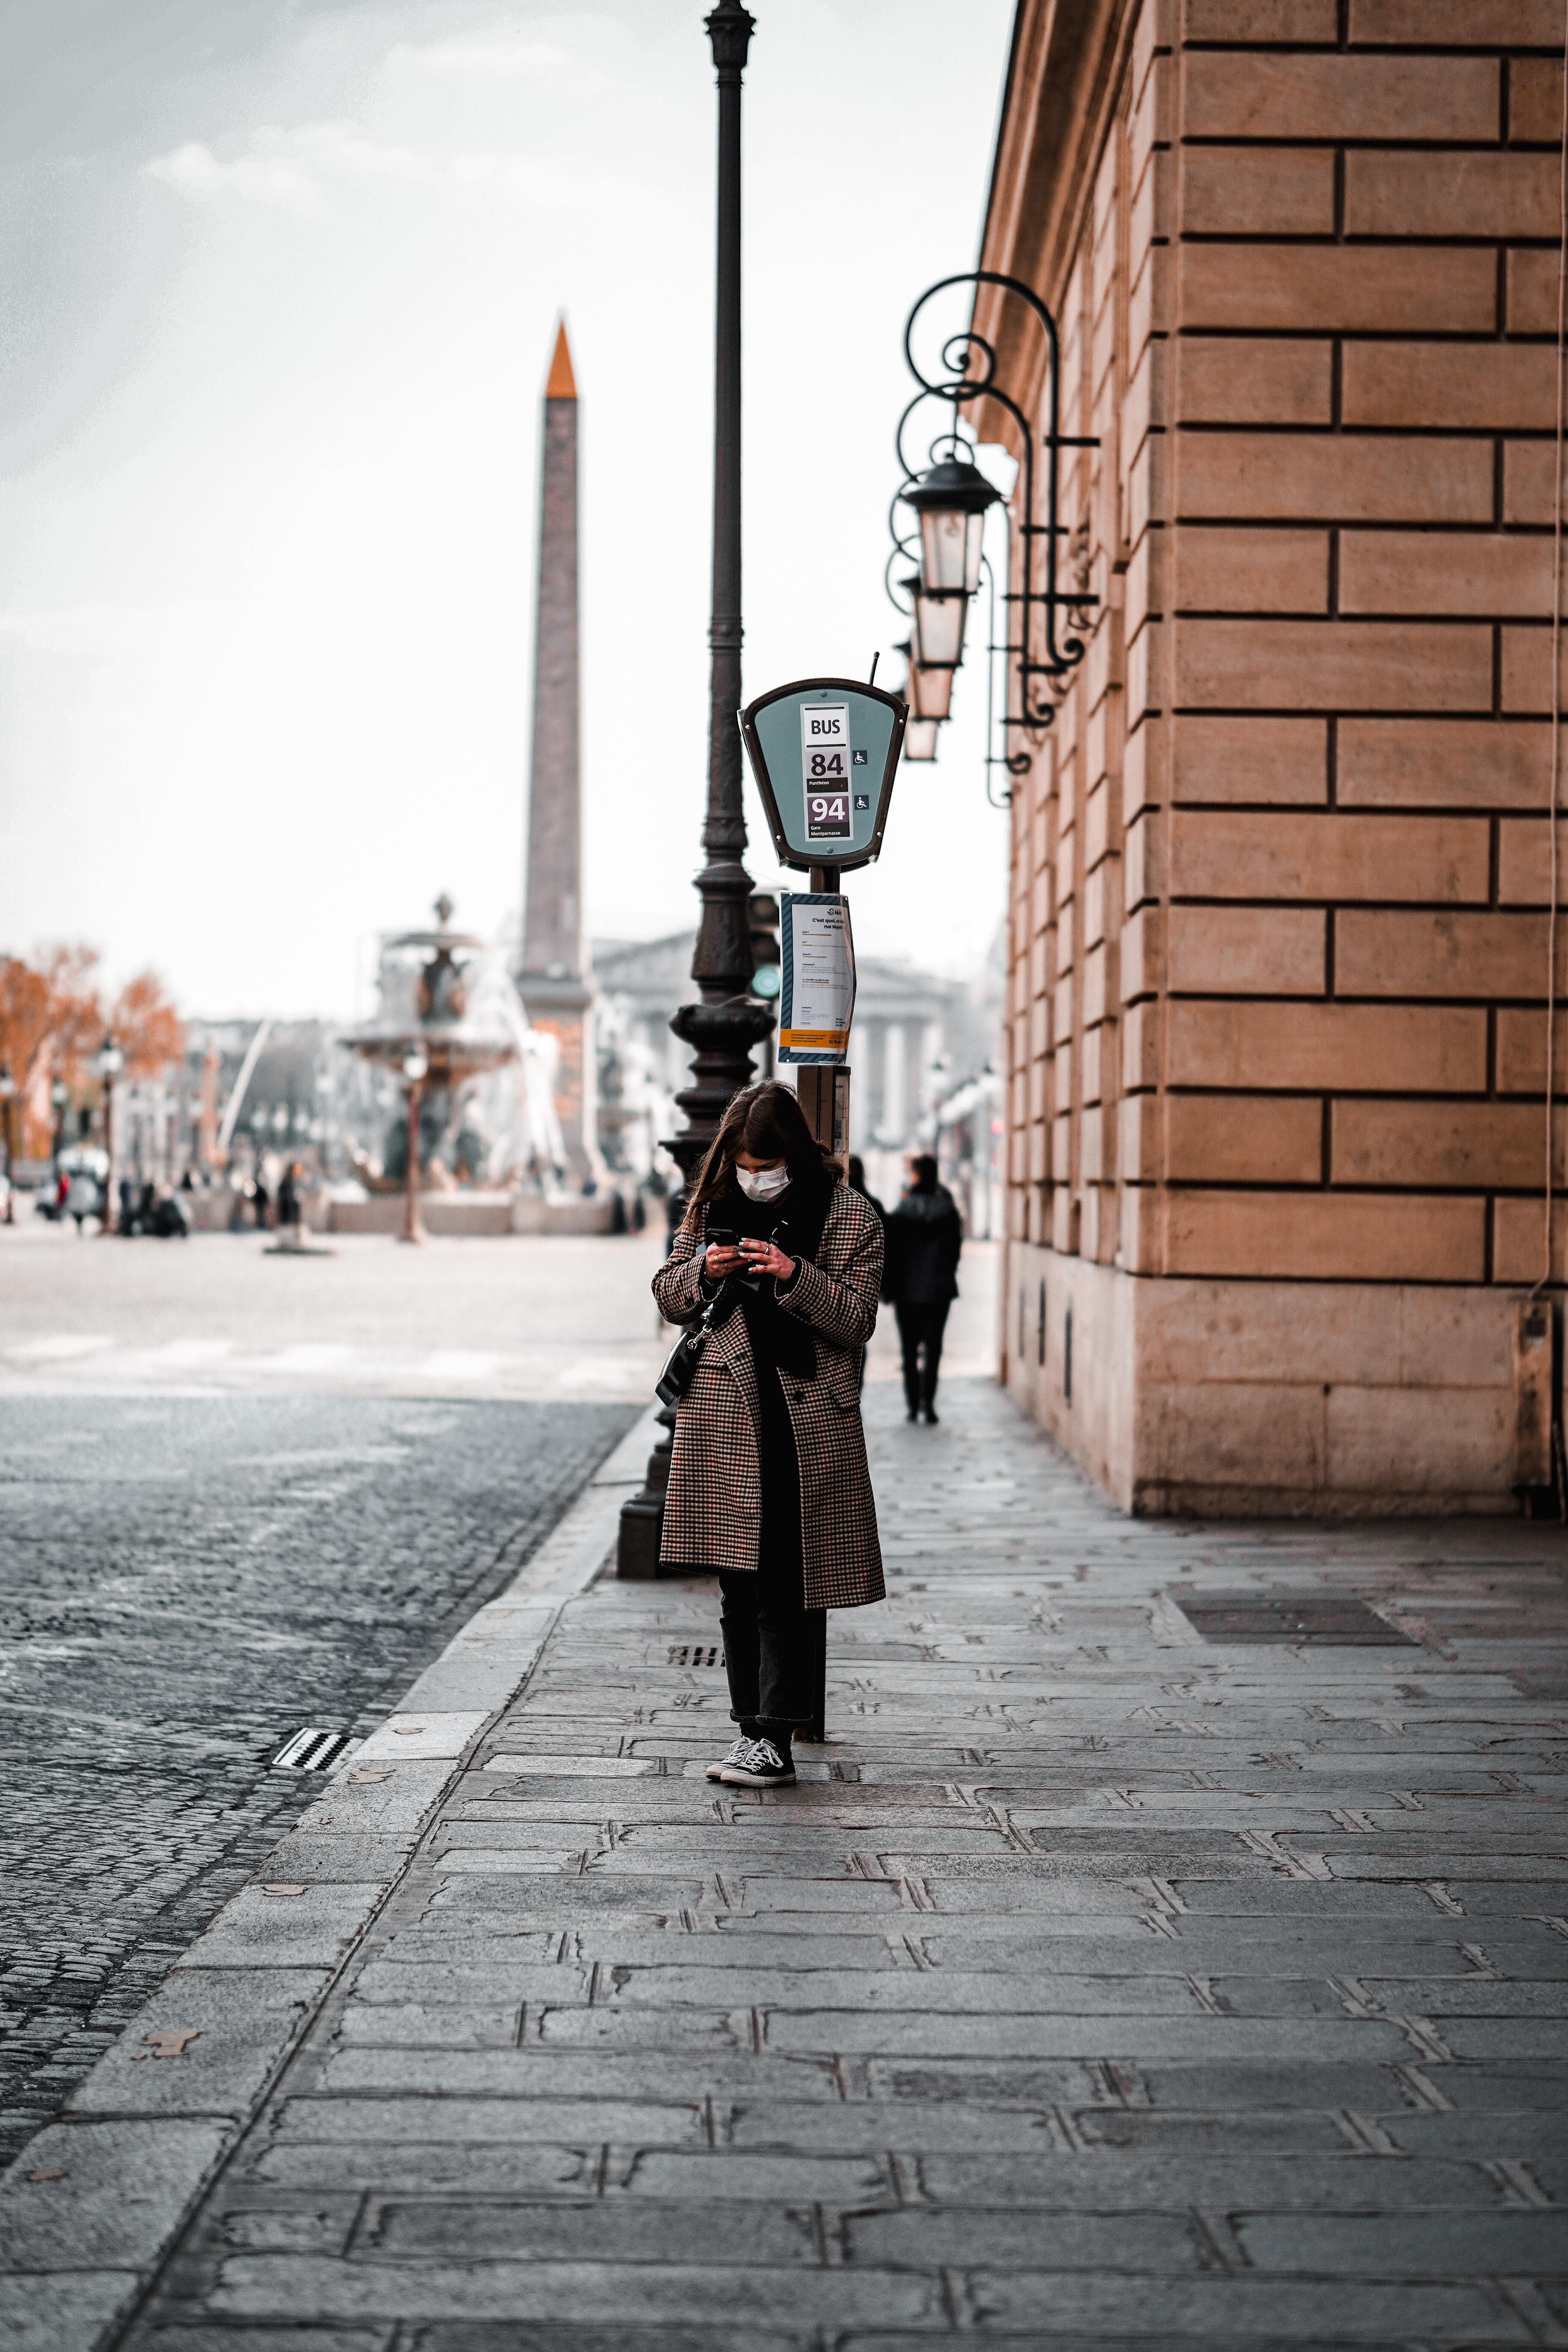person: (652, 1085, 883, 1784), (881, 1156, 966, 1422)
